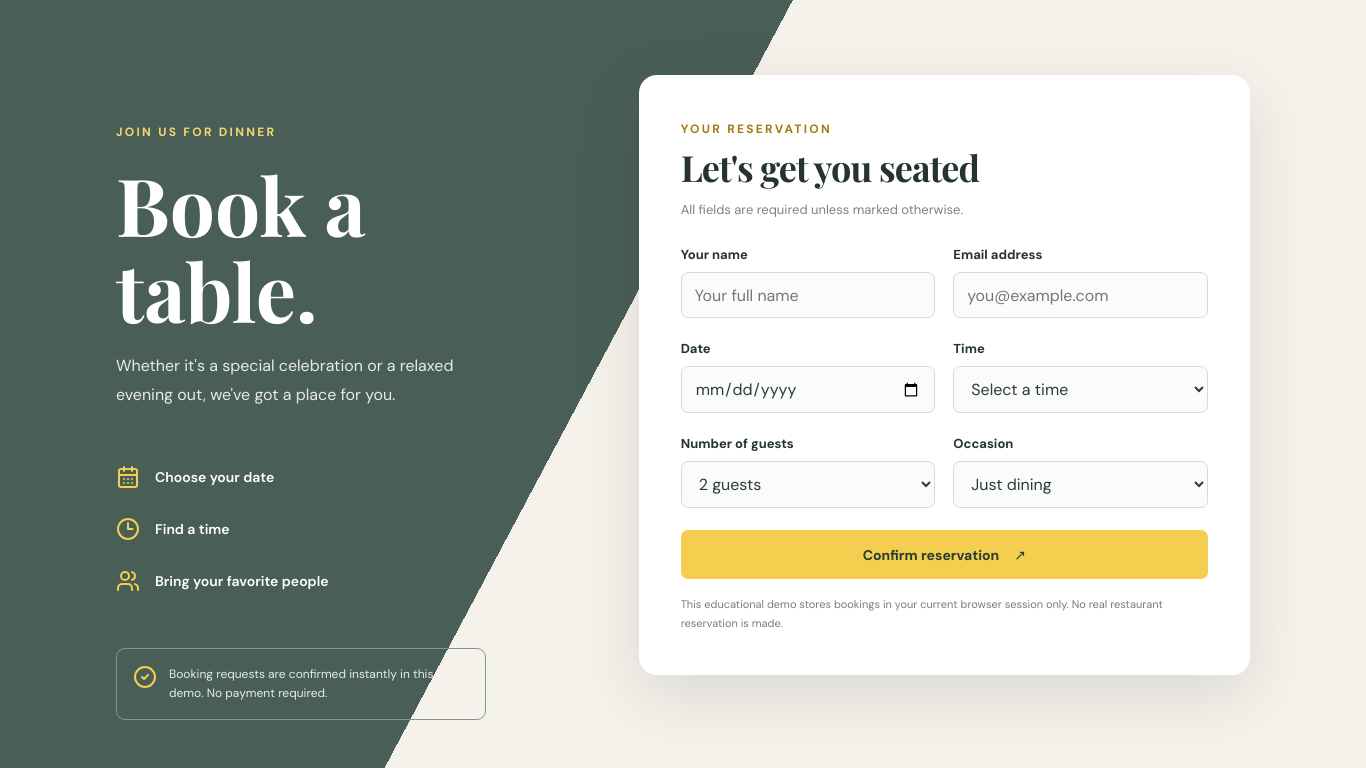
Test: reservation form › validates email format
Type "not-an-email" into the field labelled "Email address" at [1081, 295], box left=953, top=272, right=1208, bottom=318
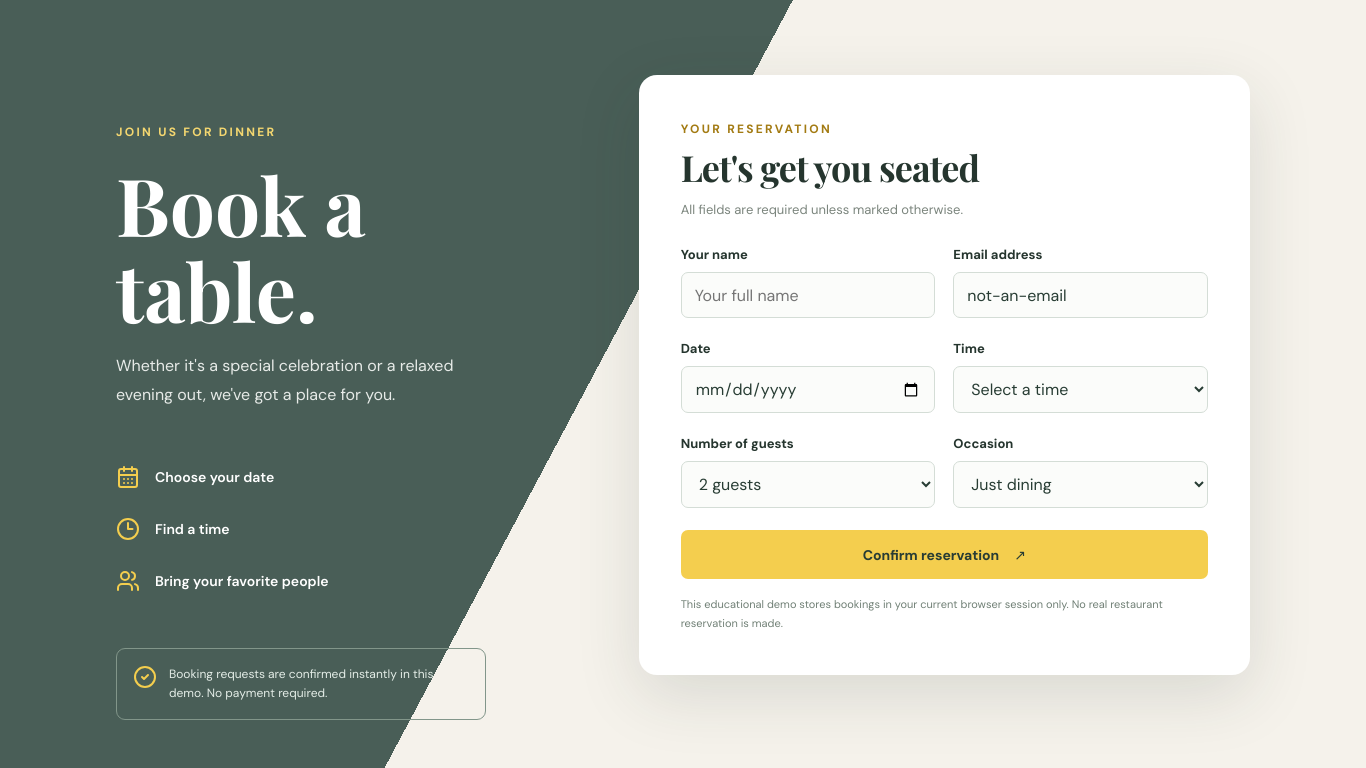
Leave the field labelled "Email address", box left=953, top=272, right=1208, bottom=318
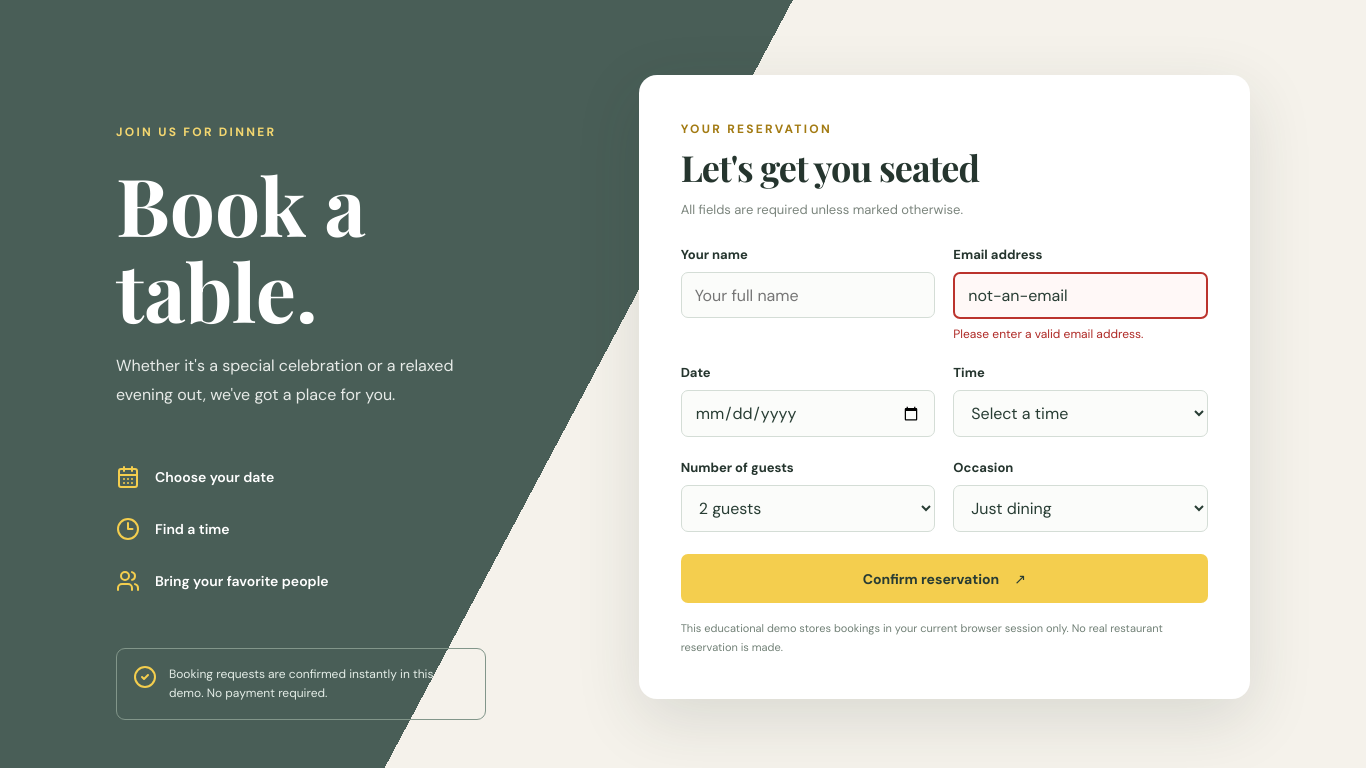
expect the text "Please enter a valid email address." is shown: met, box left=953, top=326, right=1143, bottom=342
